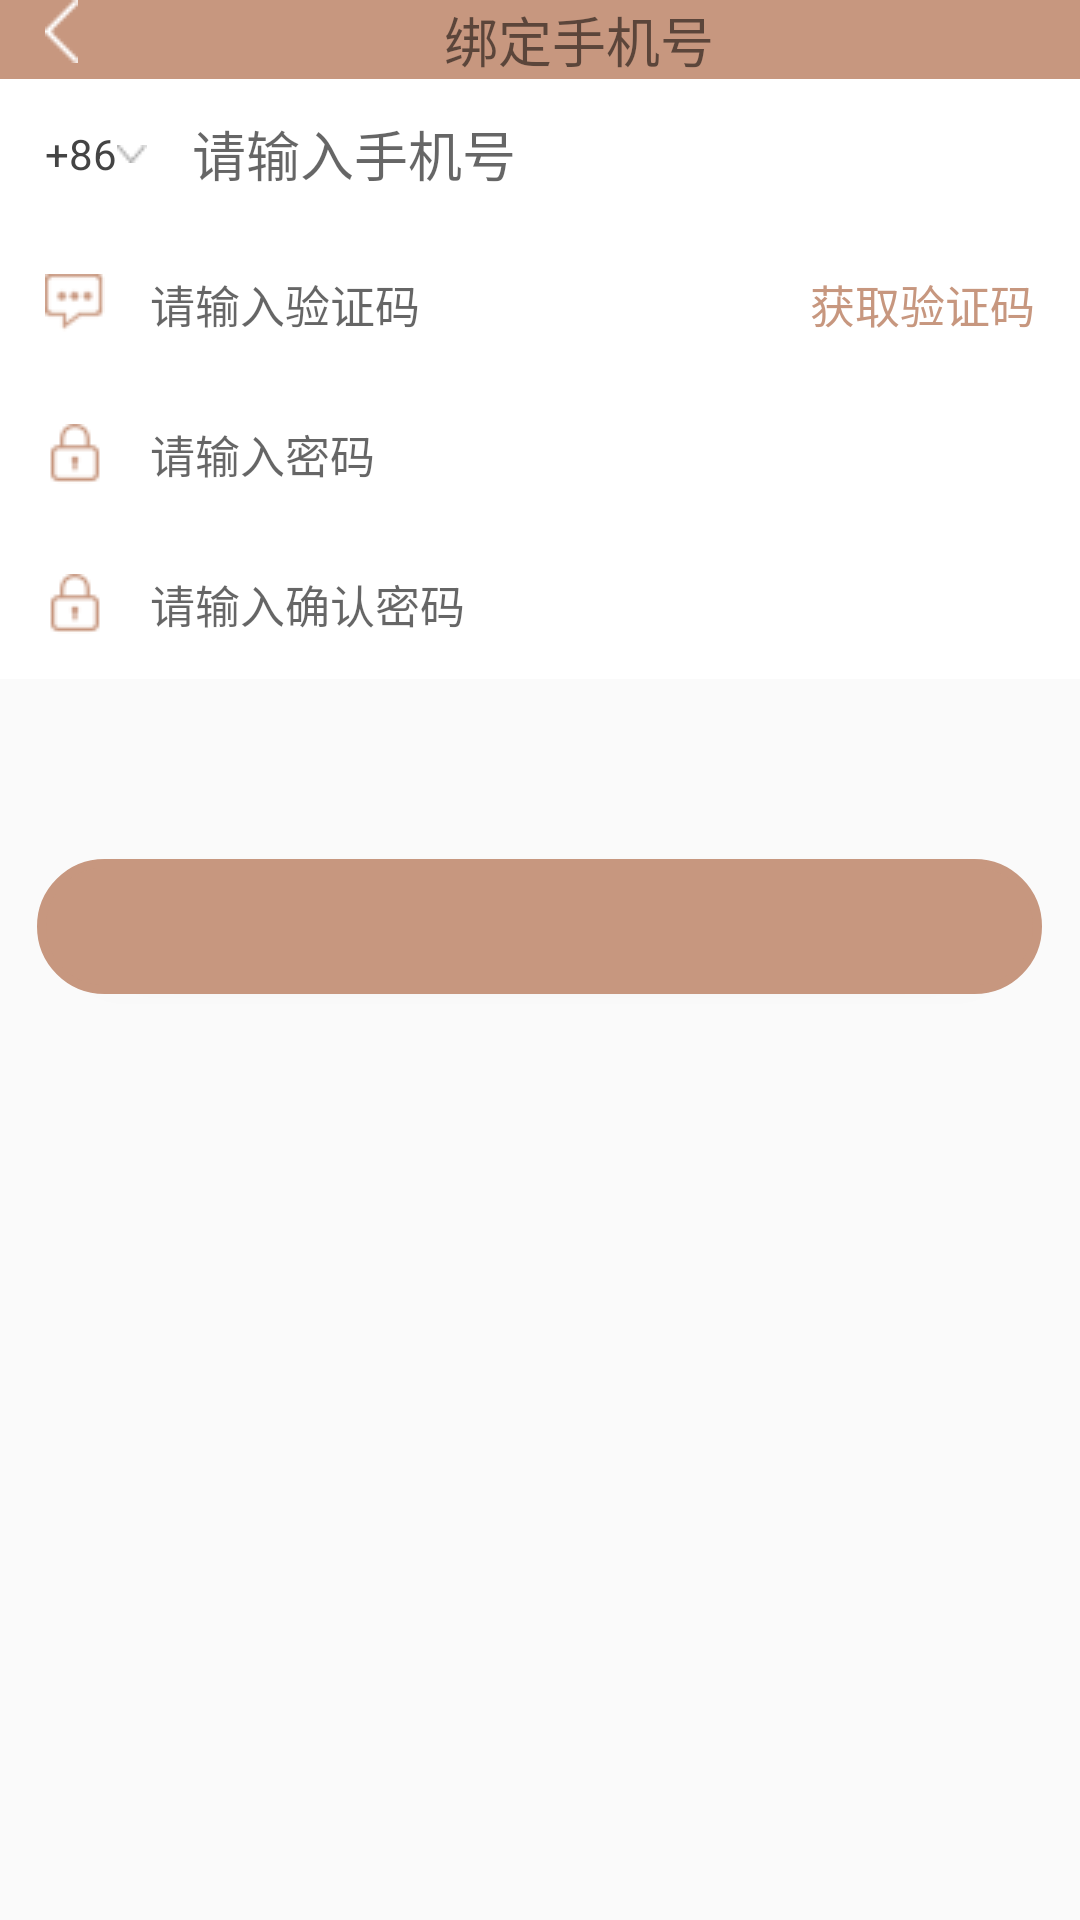

Icons on this 1080 × 1920 Android screen, each with its box as box=[x1, y1, x2, y2]:
back: box=[45, 0, 78, 63]
